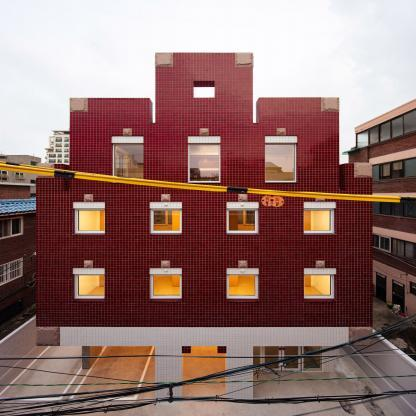Building Outline: (36, 53, 372, 401)
Cornice: (112, 135, 144, 143), (72, 202, 105, 209), (226, 202, 259, 209), (265, 136, 297, 143), (188, 136, 220, 143), (304, 202, 336, 209), (150, 202, 182, 209), (304, 268, 337, 274), (72, 268, 105, 274), (226, 268, 259, 274), (150, 268, 182, 274)
Dont: (0, 314, 416, 416), (0, 161, 416, 204), (193, 81, 215, 98)
Door: (263, 346, 302, 372), (302, 346, 322, 372)
Door Hole: (182, 346, 226, 401)
Facade: (36, 164, 372, 401)
Floor: (36, 256, 372, 320), (36, 199, 372, 251)
Floor Slab: (36, 320, 372, 325), (36, 251, 372, 256), (36, 195, 372, 200)
Glass Wall: (253, 346, 262, 372)
Ground Floor: (36, 324, 372, 401)
Pillar: (155, 346, 182, 401), (226, 346, 253, 401)
Top Floor: (69, 123, 340, 194)
Window: (188, 144, 220, 183), (265, 143, 296, 183), (113, 144, 144, 183), (150, 274, 182, 299), (226, 274, 258, 299), (150, 209, 182, 234), (226, 209, 258, 234), (304, 274, 335, 299), (304, 209, 335, 234), (75, 274, 105, 299), (75, 209, 105, 234)
Window Hole: (112, 143, 144, 183), (188, 143, 220, 183), (265, 143, 297, 183), (226, 274, 259, 302), (304, 274, 337, 302), (72, 275, 105, 302), (72, 208, 105, 235), (226, 208, 259, 235), (304, 208, 337, 235), (150, 275, 182, 302), (150, 208, 182, 235)
